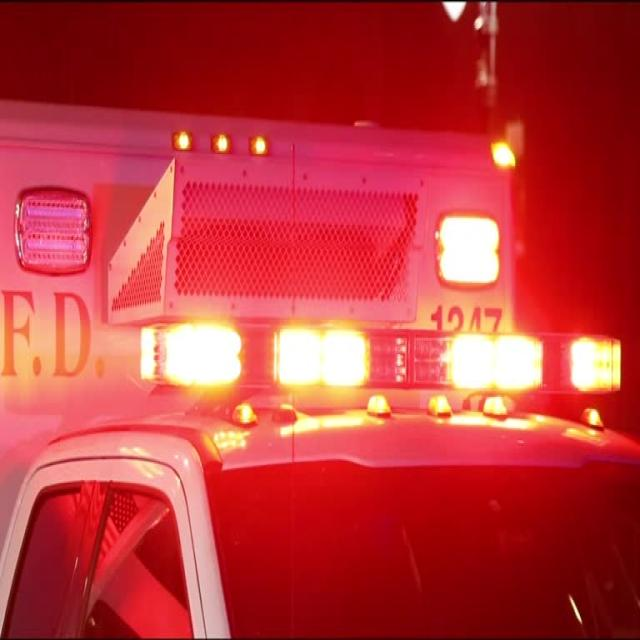emergency lights: (88, 261, 633, 485)
